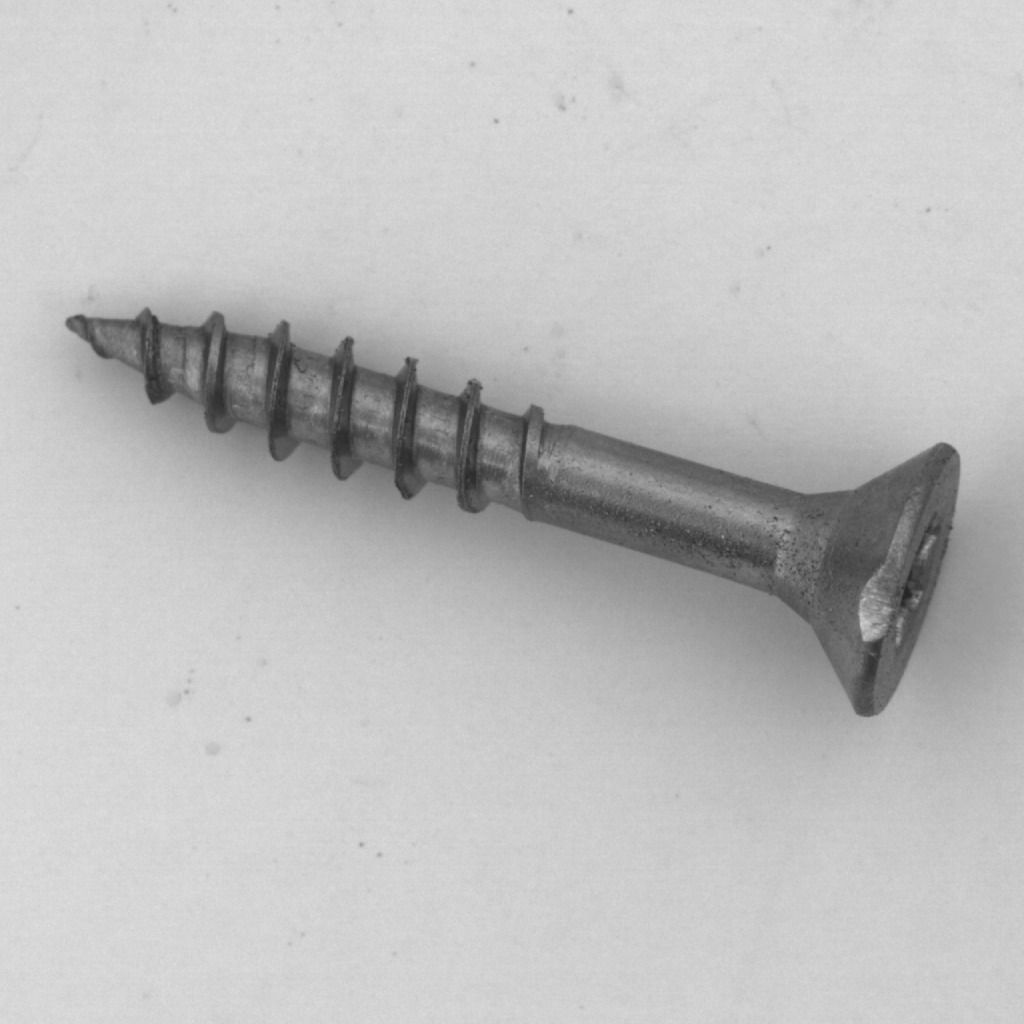scratch_head: (781, 517, 975, 711)
